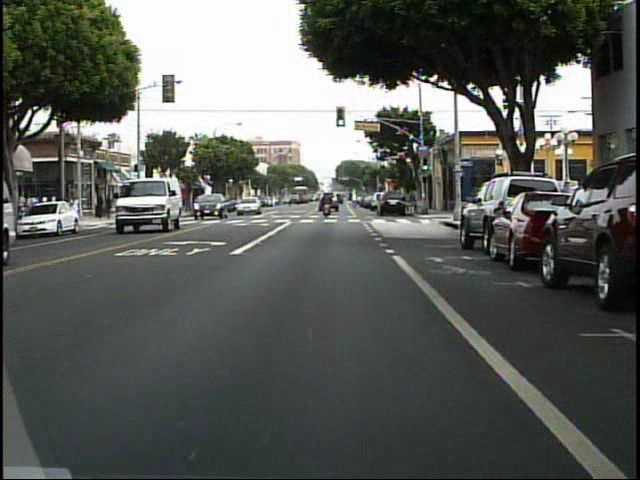person: (321, 189, 337, 219), (105, 192, 116, 220)
